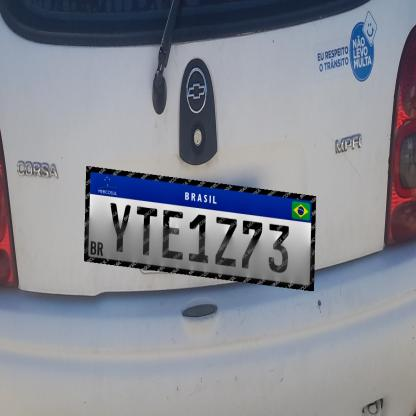PlacaM: (84, 166, 316, 291)
